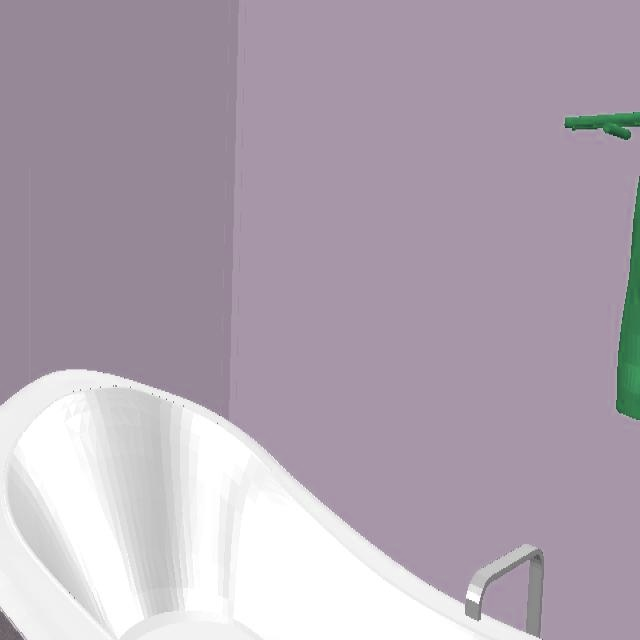bathtube: (0, 371, 540, 640)
